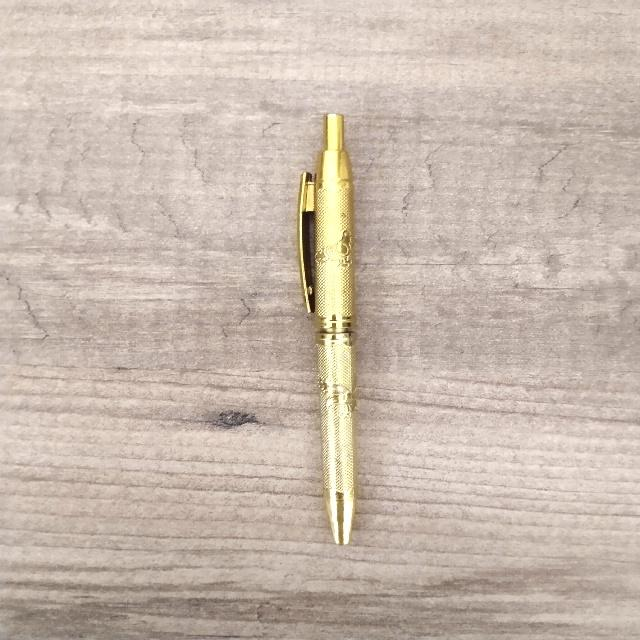signature pen: (298, 114, 355, 543)
